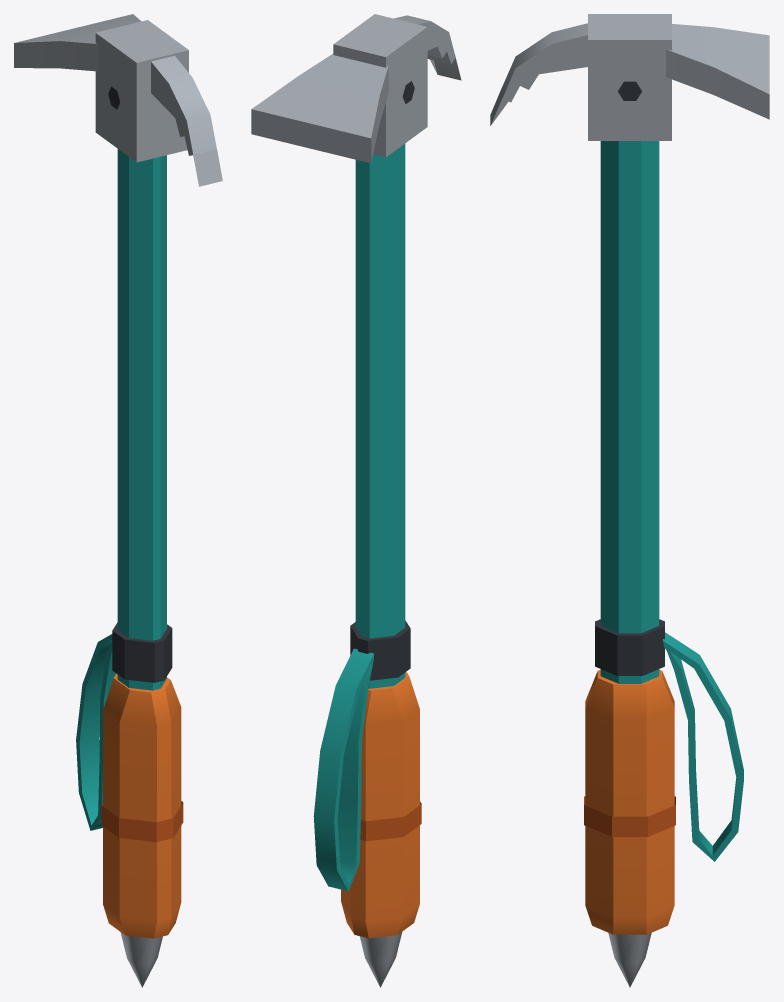
Rendered from Piolet.fbx.
The picture shows the model from 3 angles, left to right: view 1: azimuth 30°, elevation 25°; view 2: azimuth 150°, elevation 25°; view 3: azimuth 270°, elevation 25°; orthographic projection.
Visible parts, largest first — view 1: Piolet; view 2: Piolet; view 3: Piolet.
Part boxes in pixels (box(x1,y1,x2,y2)): Piolet: box(14, 14, 222, 987); Piolet: box(251, 14, 461, 987); Piolet: box(490, 14, 769, 987).
Size of the model in its own units: 0.25 by 1.9 by 0.5.
1 material, 1 textured.
